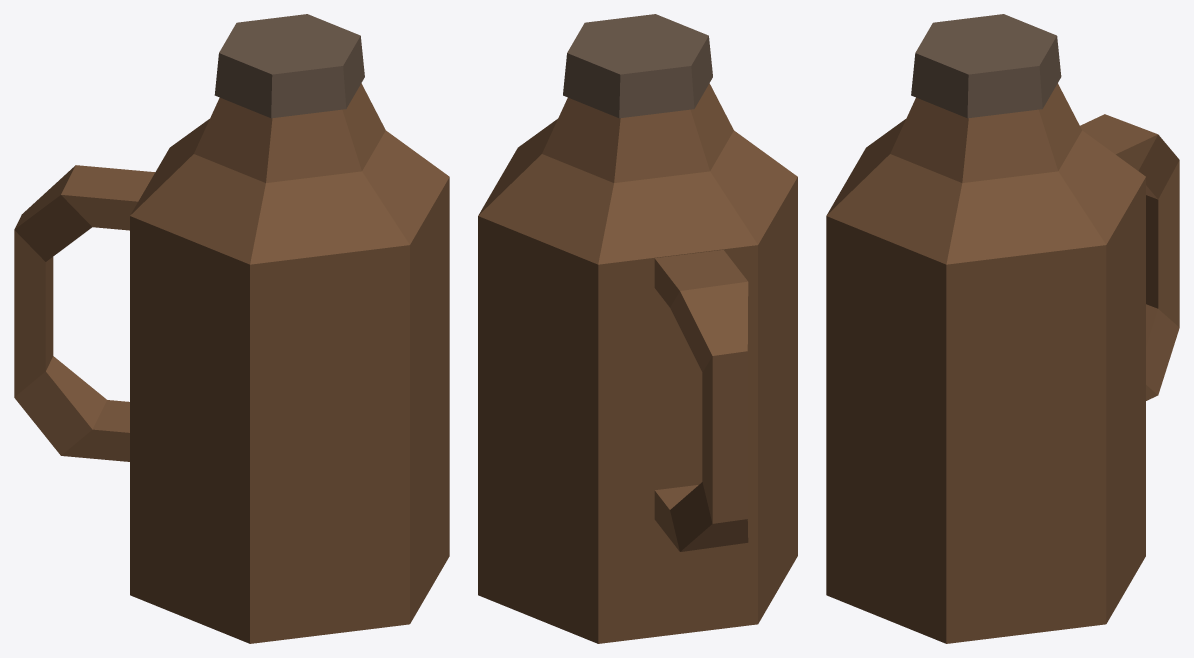
The model's file is Bottle_17.fbx.
The picture shows the model from 3 angles, left to right: view 1: azimuth 30°, elevation 25°; view 2: azimuth 150°, elevation 25°; view 3: azimuth 270°, elevation 25°; orthographic projection.
Parts seen in each view (by area): view 1: Bottle_17; view 2: Bottle_17; view 3: Bottle_17.
Boxes of the visible parts, x1=… form: Bottle_17: x1=14, y1=14, x2=449, y2=643; Bottle_17: x1=478, y1=14, x2=797, y2=643; Bottle_17: x1=826, y1=14, x2=1179, y2=643.
Bounding box in the file's own units: 25.38 × 23.35 × 38.73.
